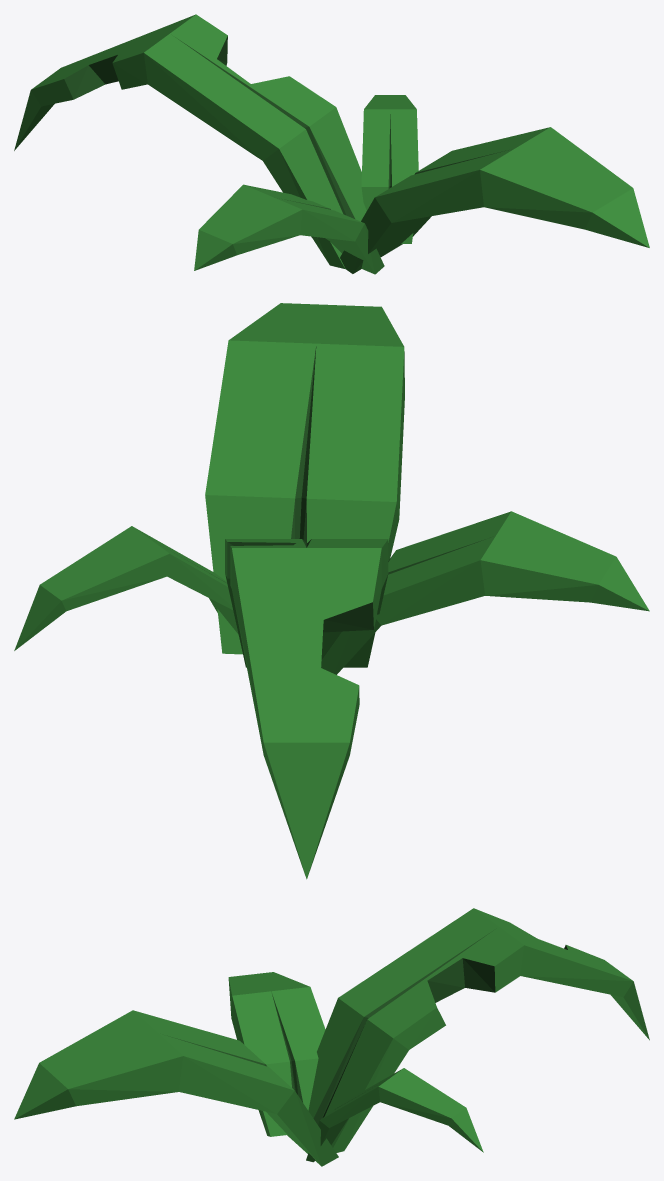
The model's file is Plant_A_02.FBX.
3 renders of one model, top to bottom at view 1: azimuth 30°, elevation 25°; view 2: azimuth 150°, elevation 25°; view 3: azimuth 270°, elevation 25°, orthographic. The views are drawn at different scales.
Parts seen in each view (by area): view 1: Plant_A_02; view 2: Plant_A_02; view 3: Plant_A_02.
Part boxes in pixels (x1,y1,x2,y2): Plant_A_02: (14, 14, 649, 274); Plant_A_02: (14, 303, 649, 879); Plant_A_02: (14, 908, 649, 1166).
Size of the model in its own units: 1.38 by 0.6625 by 2.25.
